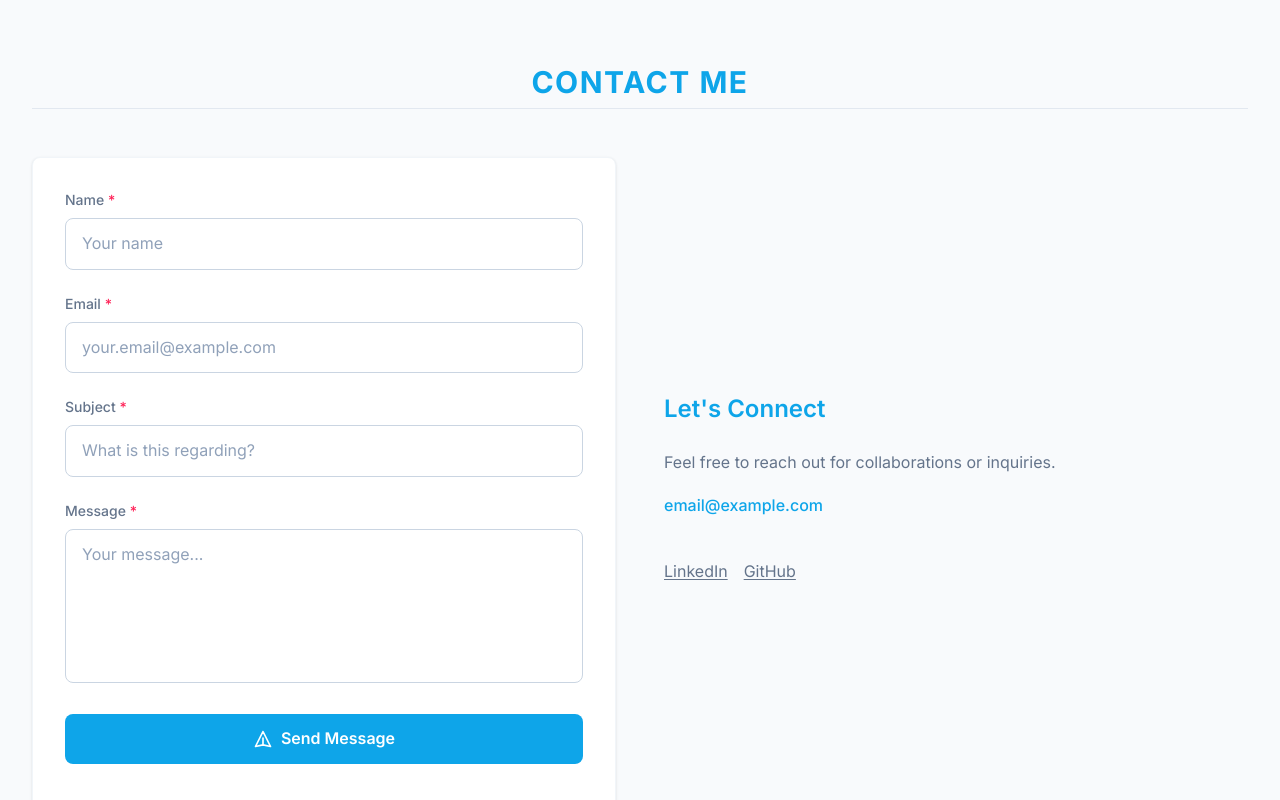
Test: ContactSection Component › shows loading state during submission
The width and height of the screenshot is (1280, 800).
Type "John Doe" into the field labelled "Name *".
click(324, 244); type("John Doe")  # box [65,218,583,270]
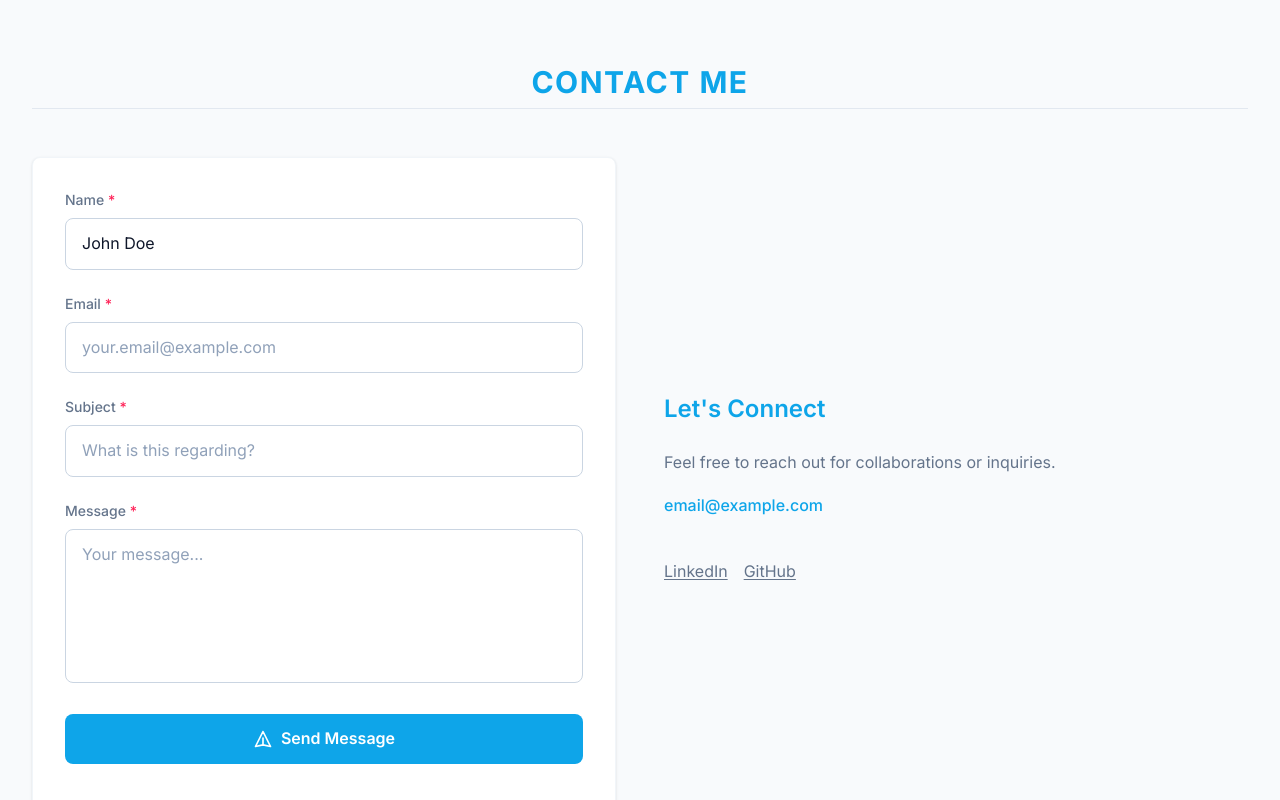
Type "john@example.com" into the field labelled "Email *".
click(324, 347); type("john@example.com")  # box [65,322,583,373]
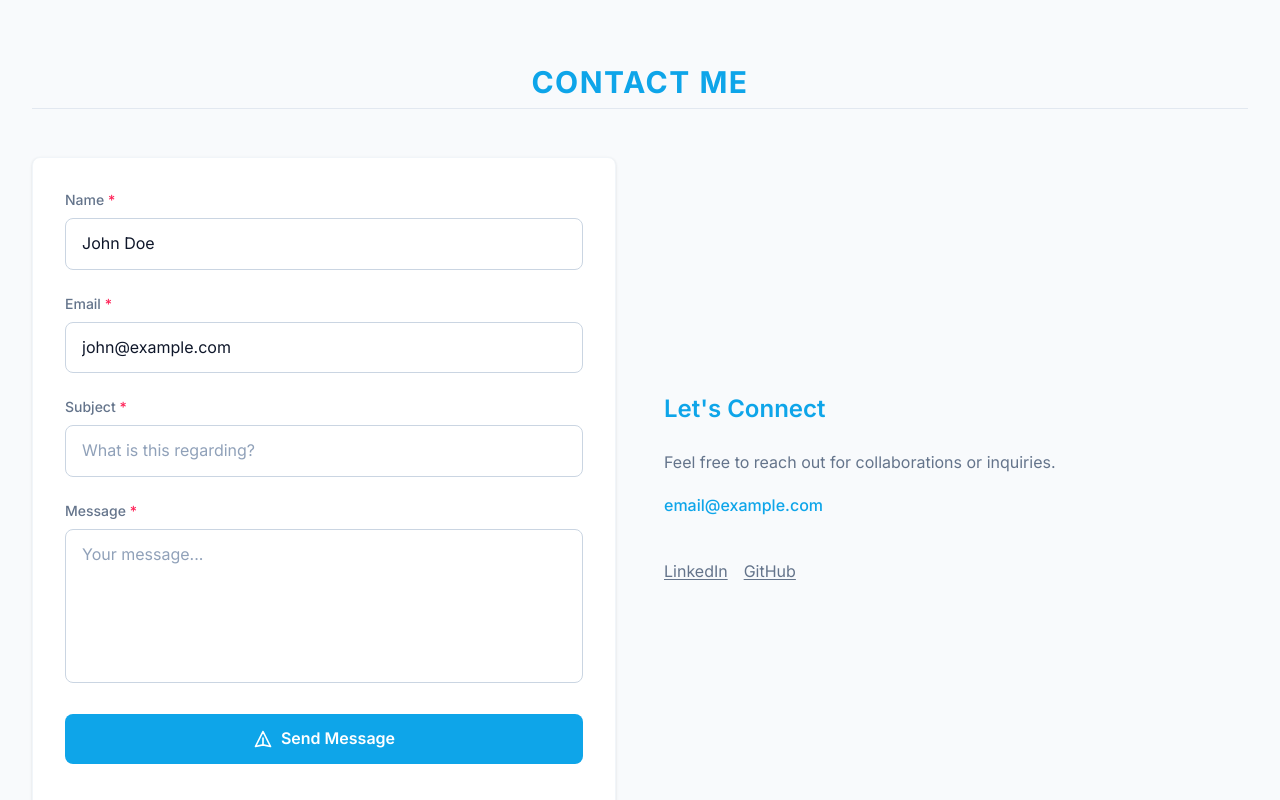
Type "Test" into the field labelled "Subject *".
click(324, 451); type("Test")  # box [65,425,583,477]
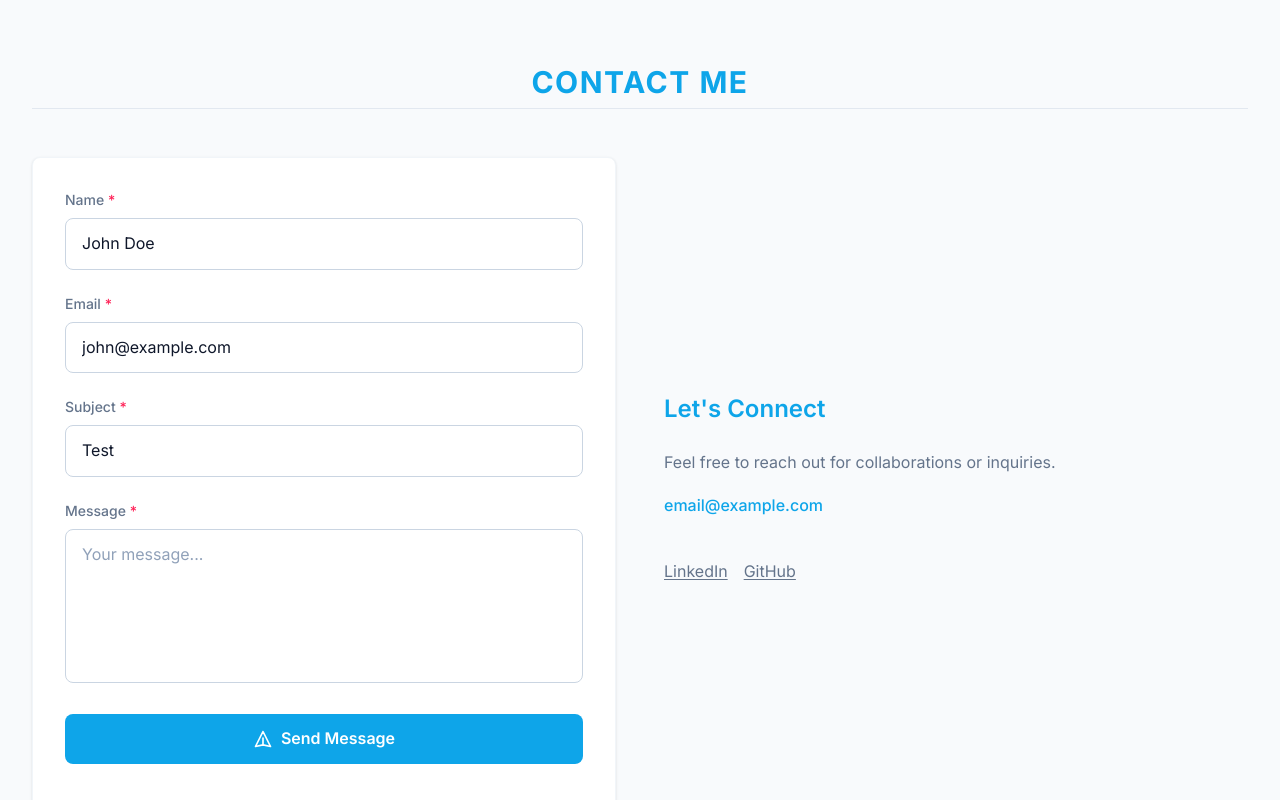
Type "Test message content" into the text box labelled "Message *".
click(324, 606); type("Test message content")  # box [65,529,583,683]
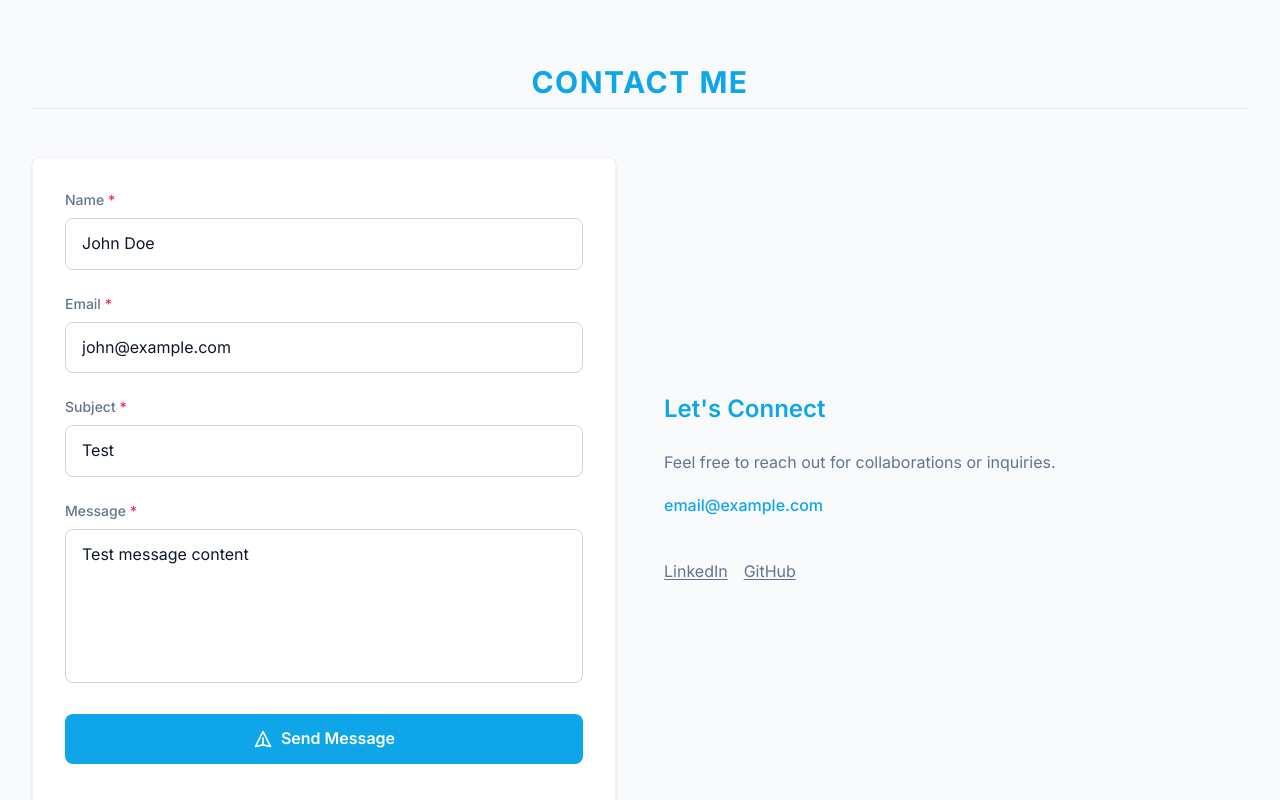
Click the button "Send Message".
click(324, 739)  # box [65,714,583,764]
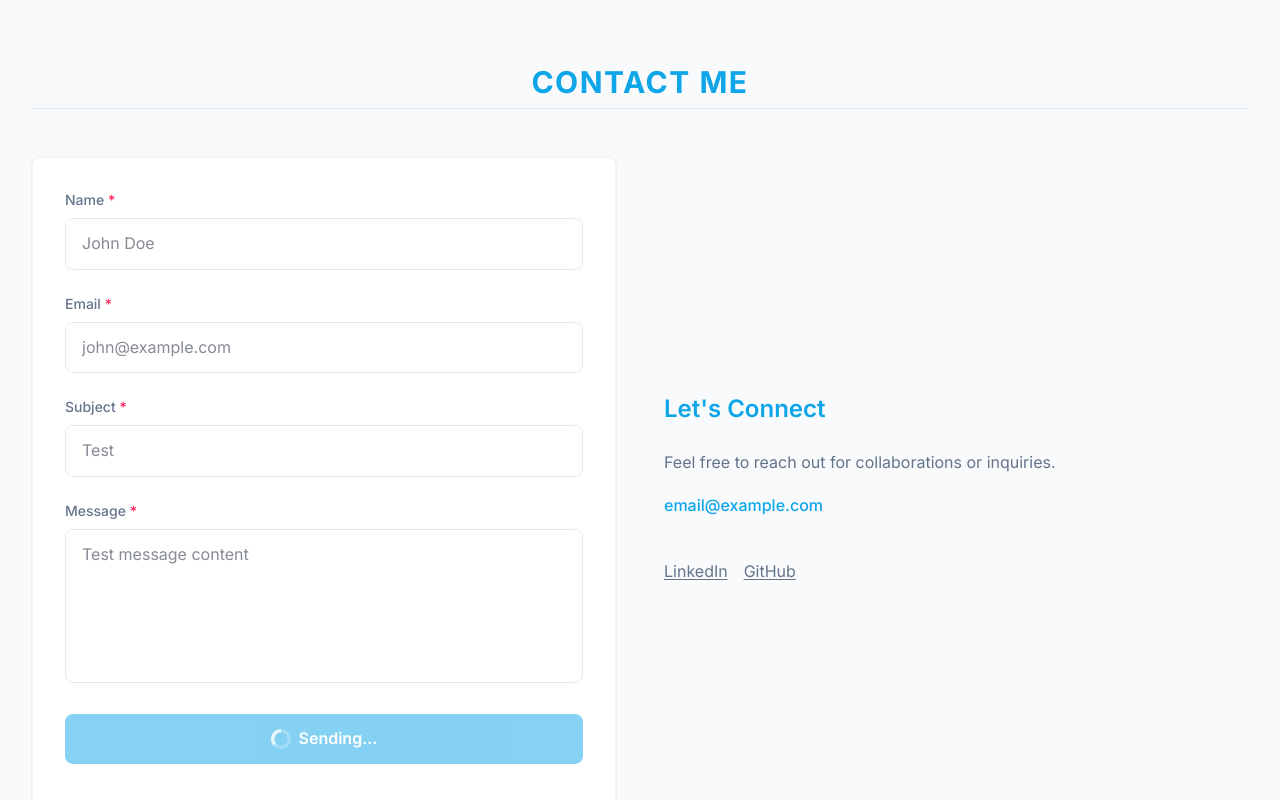
expect the text "Sending..." is shown: met, box [298,726,377,752]
